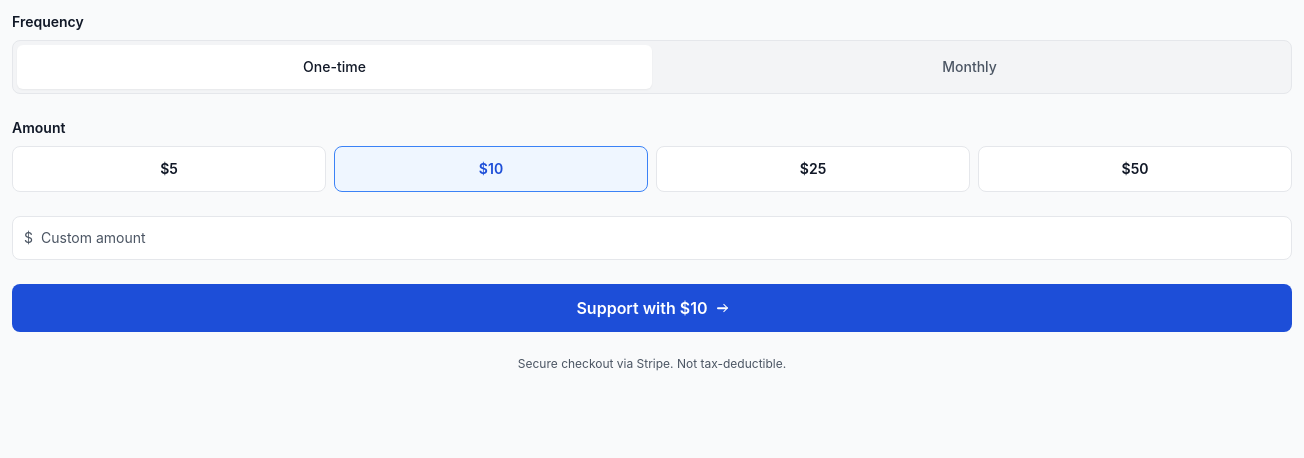
Test: SupportTiers › announces checkout failures without losing the selection
Click the button "Support with $10". click: (652, 308)
box: [12, 284, 1292, 332]
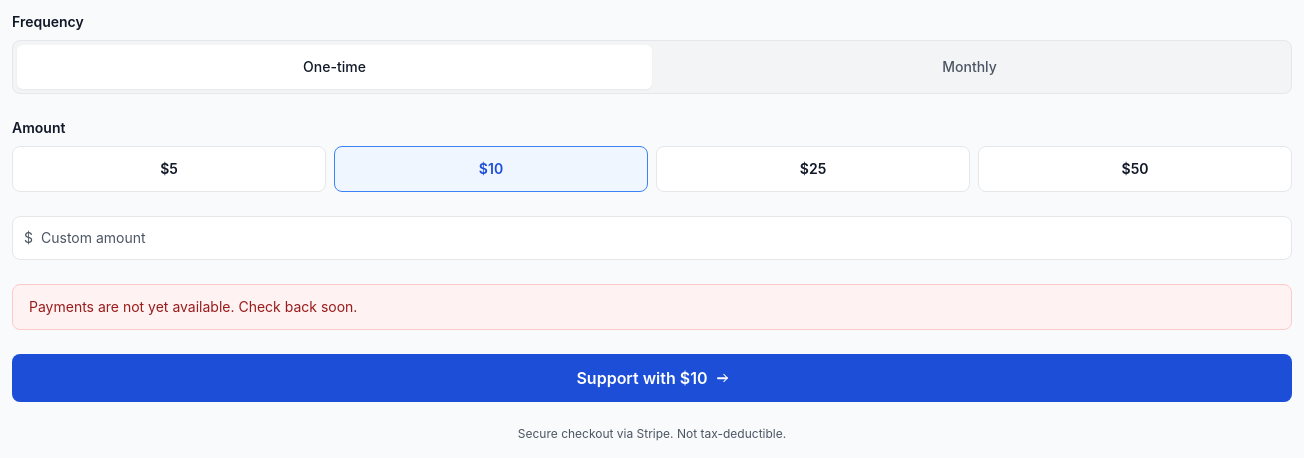
Check: the button "Support with $10" is shown, box [12, 354, 1292, 402]
Check: the message shows "Payments are not yet available", box [29, 298, 357, 315]
